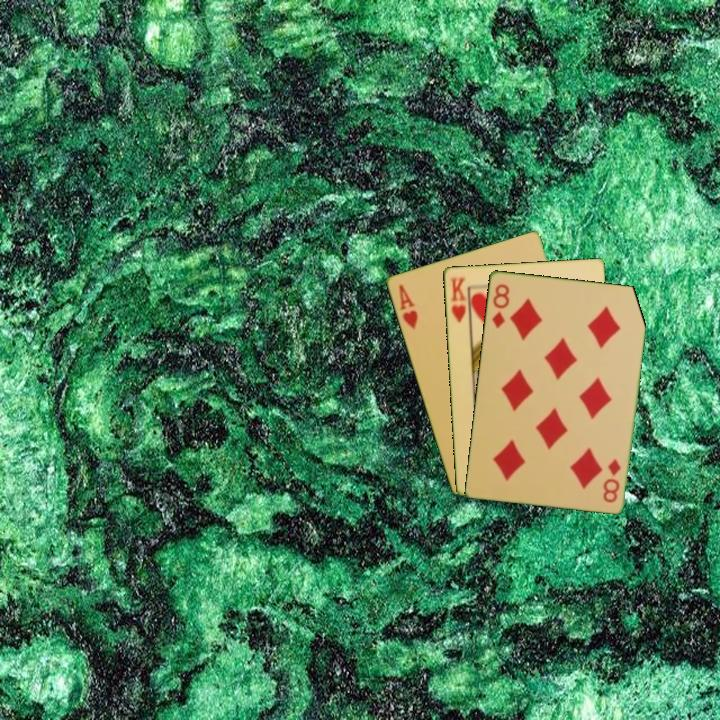8d: (488, 280, 512, 331), (599, 455, 623, 505)
Ah: (395, 281, 421, 332)
Kh: (446, 274, 472, 328)
